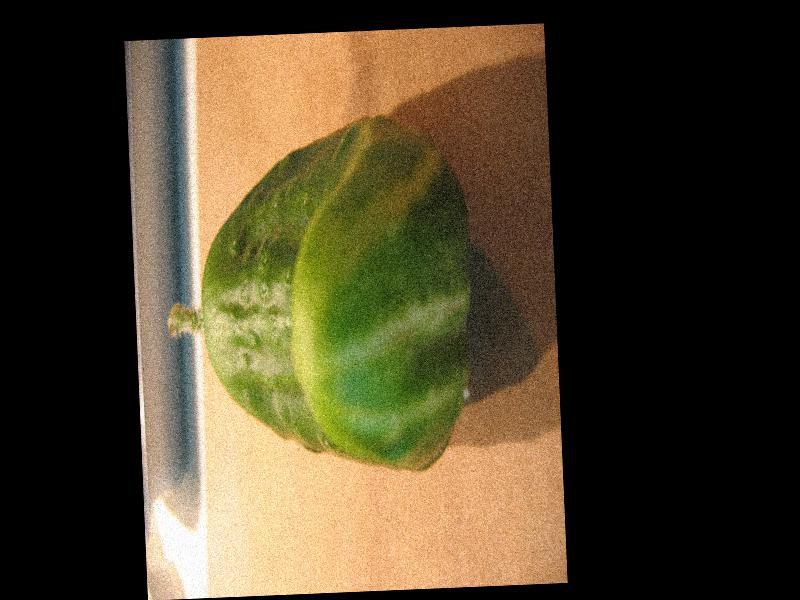Cucumber: (158, 115, 480, 484)
